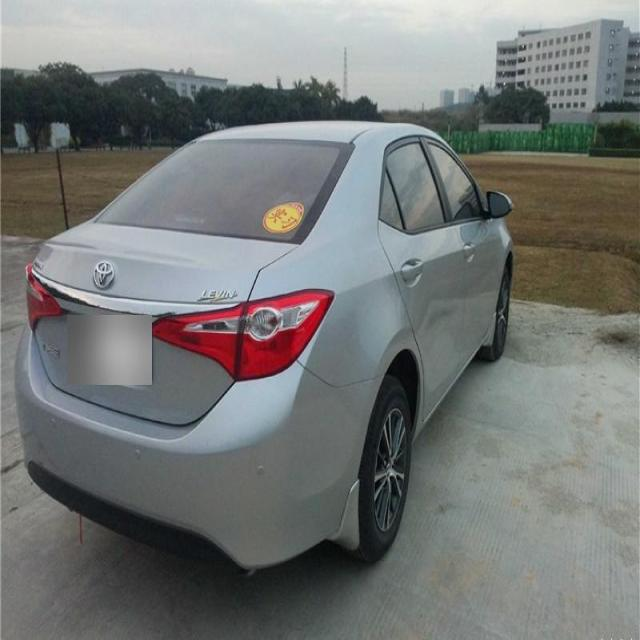back_glass: (92, 136, 354, 242)
back_left_side_light: (24, 258, 66, 338)
back_right_side_light: (150, 286, 332, 384)
door: (374, 132, 466, 388)
front_right_side_door: (420, 131, 496, 369)
front_right_side_mirror: (486, 185, 512, 222)
rear_bumper: (15, 338, 366, 576)
wheel: (344, 376, 415, 562)
